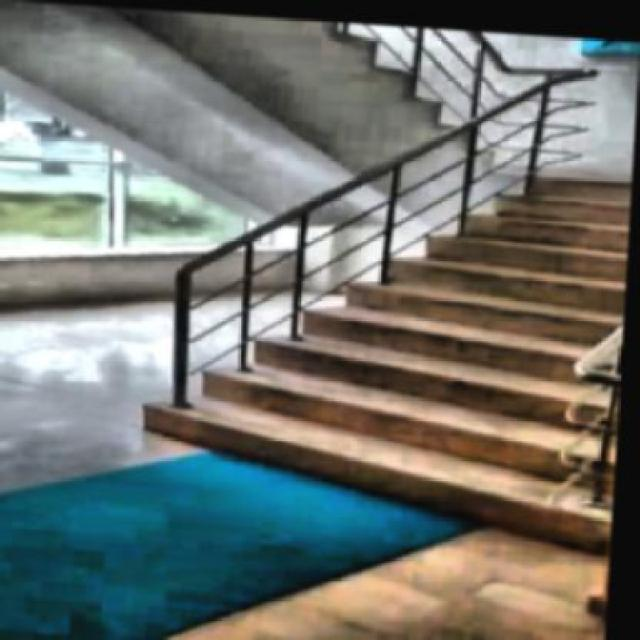stair: (135, 125, 632, 512)
